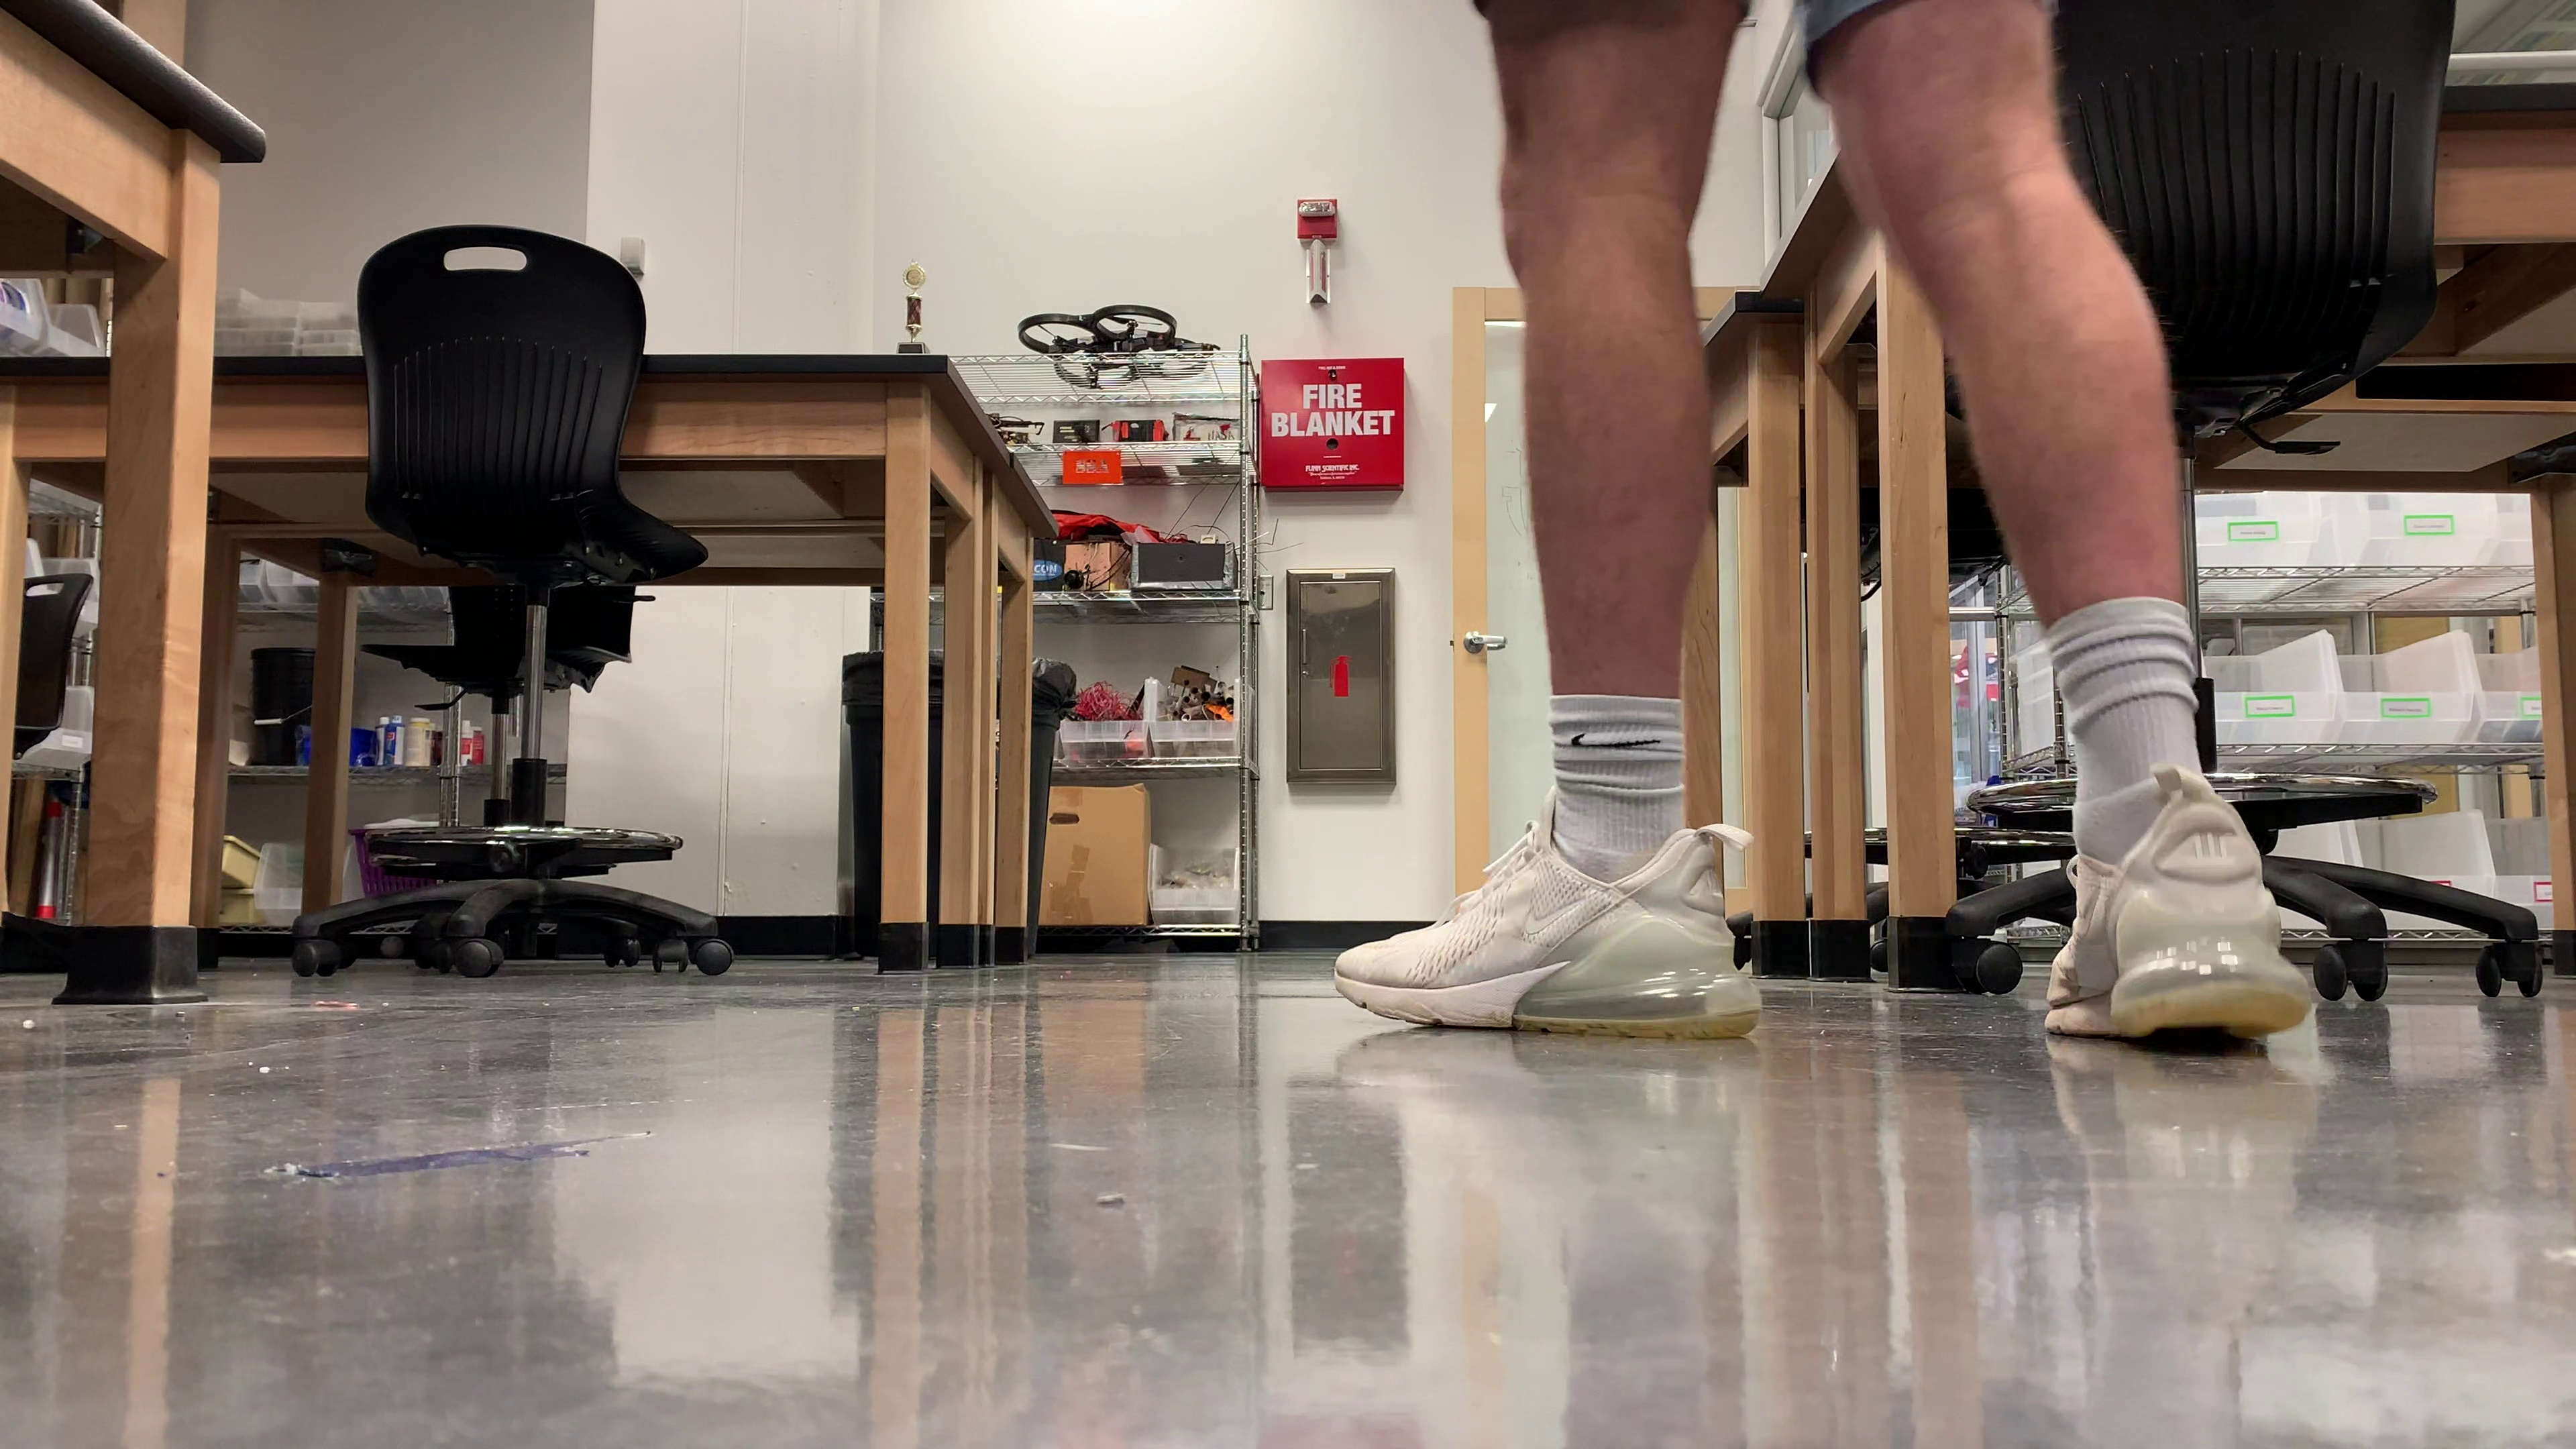shoe: (1336, 786, 1762, 1037), (2045, 794, 2312, 1042)
